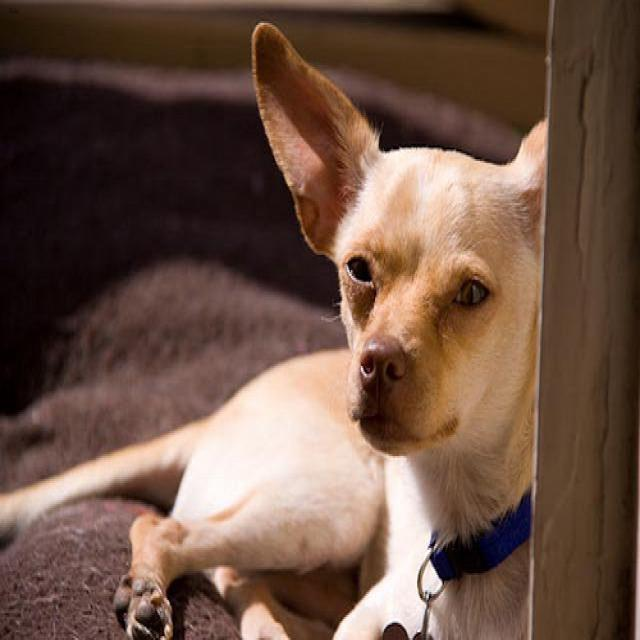dog-chihuahua: (1, 4, 559, 636)
